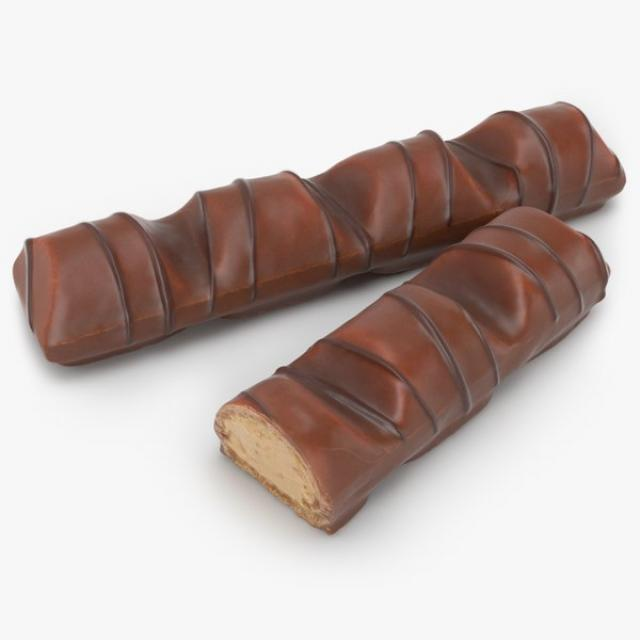Chocolate bar packaged: (10, 100, 635, 366), (214, 205, 613, 543)
